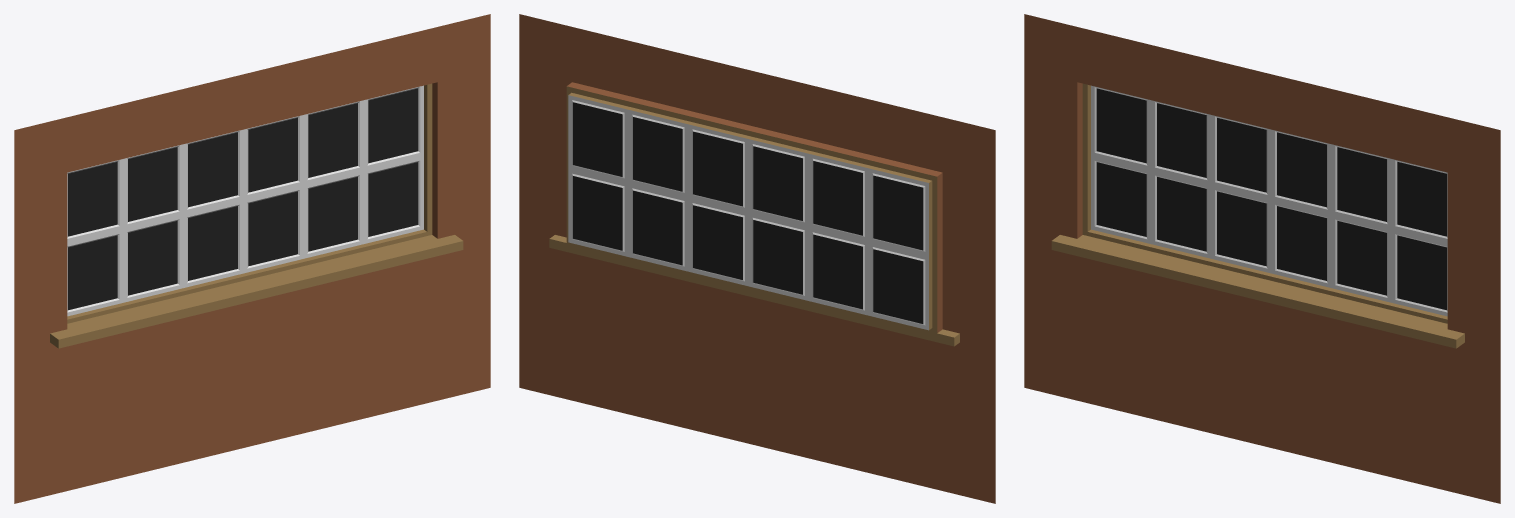
The model's file is 4x3WindowA.fbx.
3 views of the same model, side by side, from view 1: azimuth 30°, elevation 25°; view 2: azimuth 150°, elevation 25°; view 3: azimuth 330°, elevation 25° (orthographic).
Parts seen in each view (by area): view 1: 4x3WindowA; view 2: 4x3WindowA; view 3: 4x3WindowA.
Part boxes in pixels (left/top/right/bottom): 4x3WindowA: left=14, top=14, right=490, bottom=503; 4x3WindowA: left=519, top=14, right=995, bottom=503; 4x3WindowA: left=1024, top=14, right=1500, bottom=503.
Bounding box in the file's own units: 400 × 300 × 26.05.
